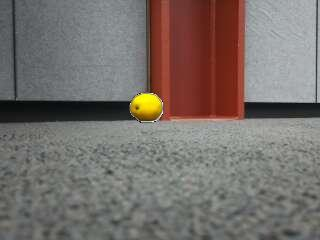lemon: (130, 95, 161, 121)
